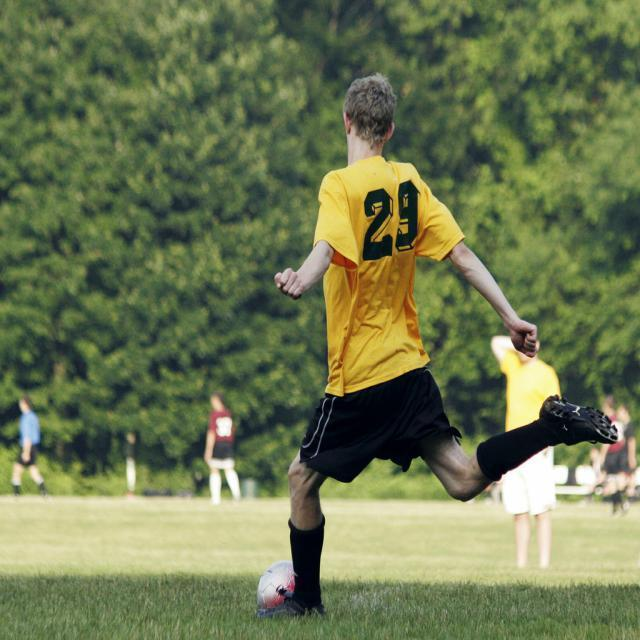football: (251, 564, 322, 630)
